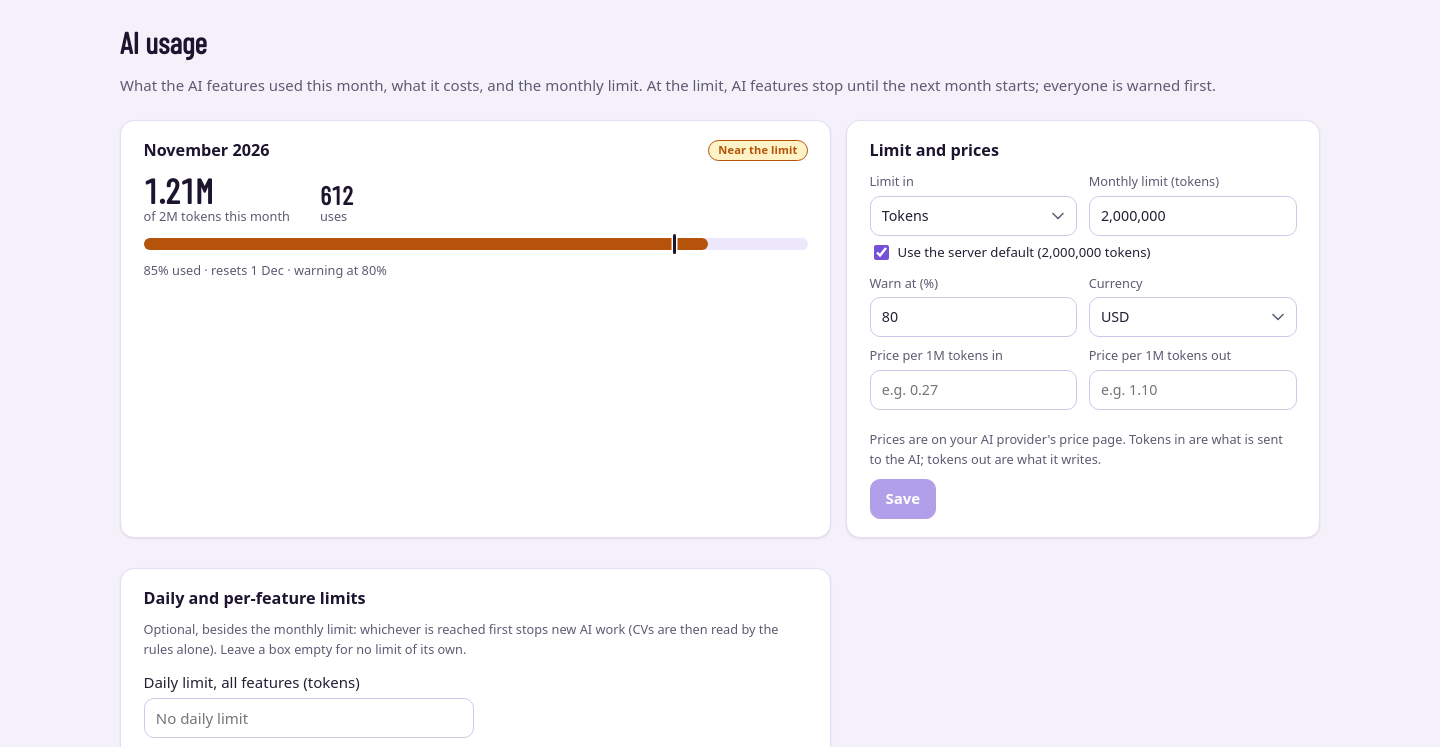
Test: Settings › AI usage › shows the API's problem with the money limit after going back to tokens
The width and height of the screenshot is (1440, 747).
Select "Money" in the dropdown labelled "Limit in" at {"x": 973, "y": 216}, box left=870, top=196, right=1077, bottom=236
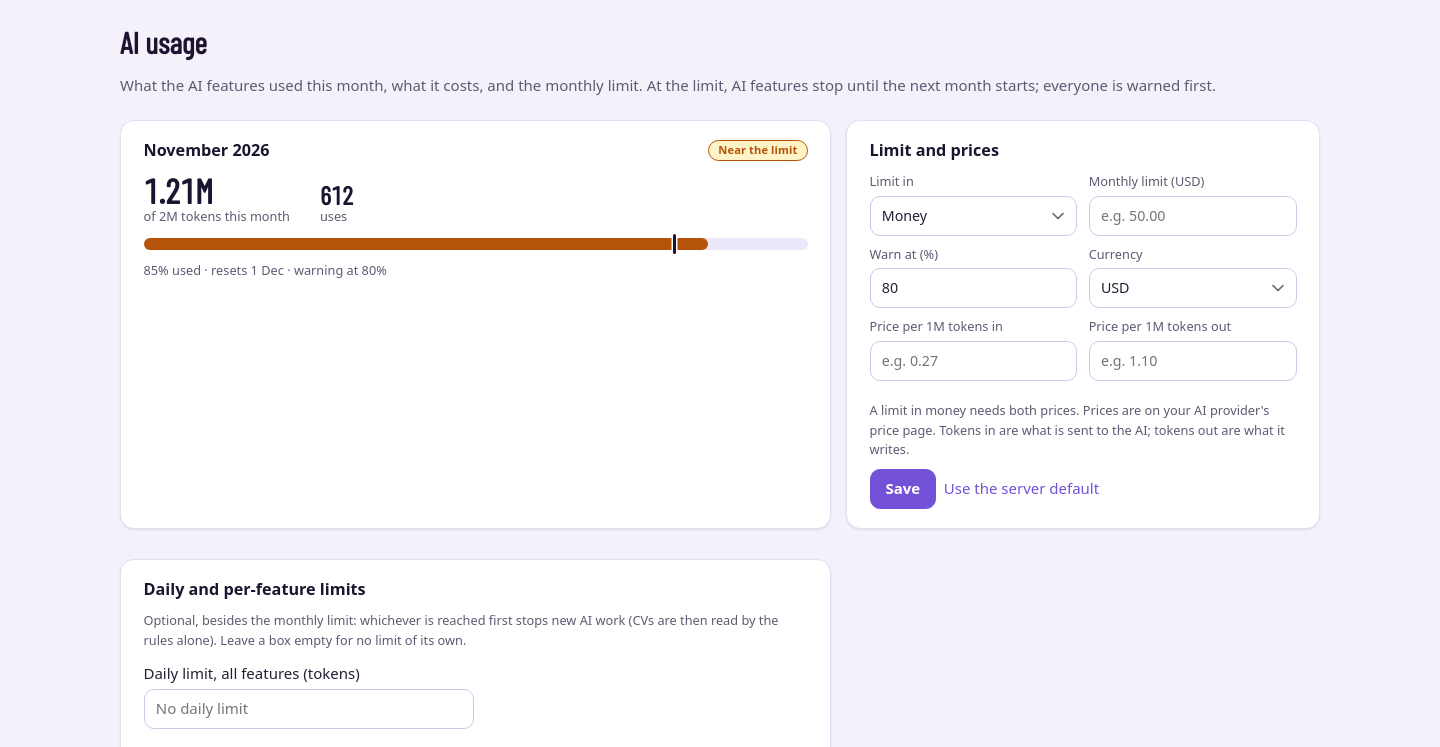
Type "50.55" into the field labelled "Monthly limit (USD)" at {"x": 1193, "y": 216}, box left=1089, top=196, right=1296, bottom=236
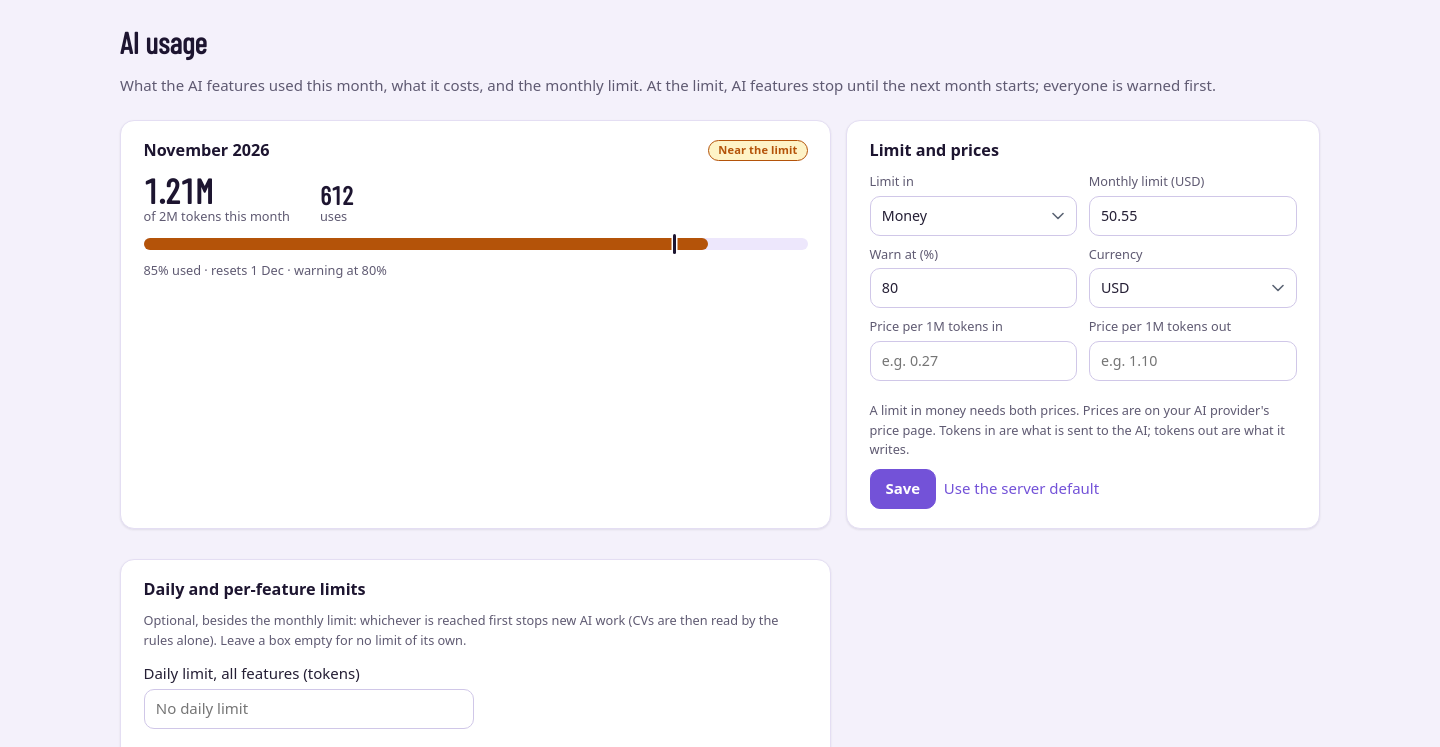
Select "Tokens" in the dropdown labelled "Limit in" at {"x": 973, "y": 216}, box left=870, top=196, right=1077, bottom=236
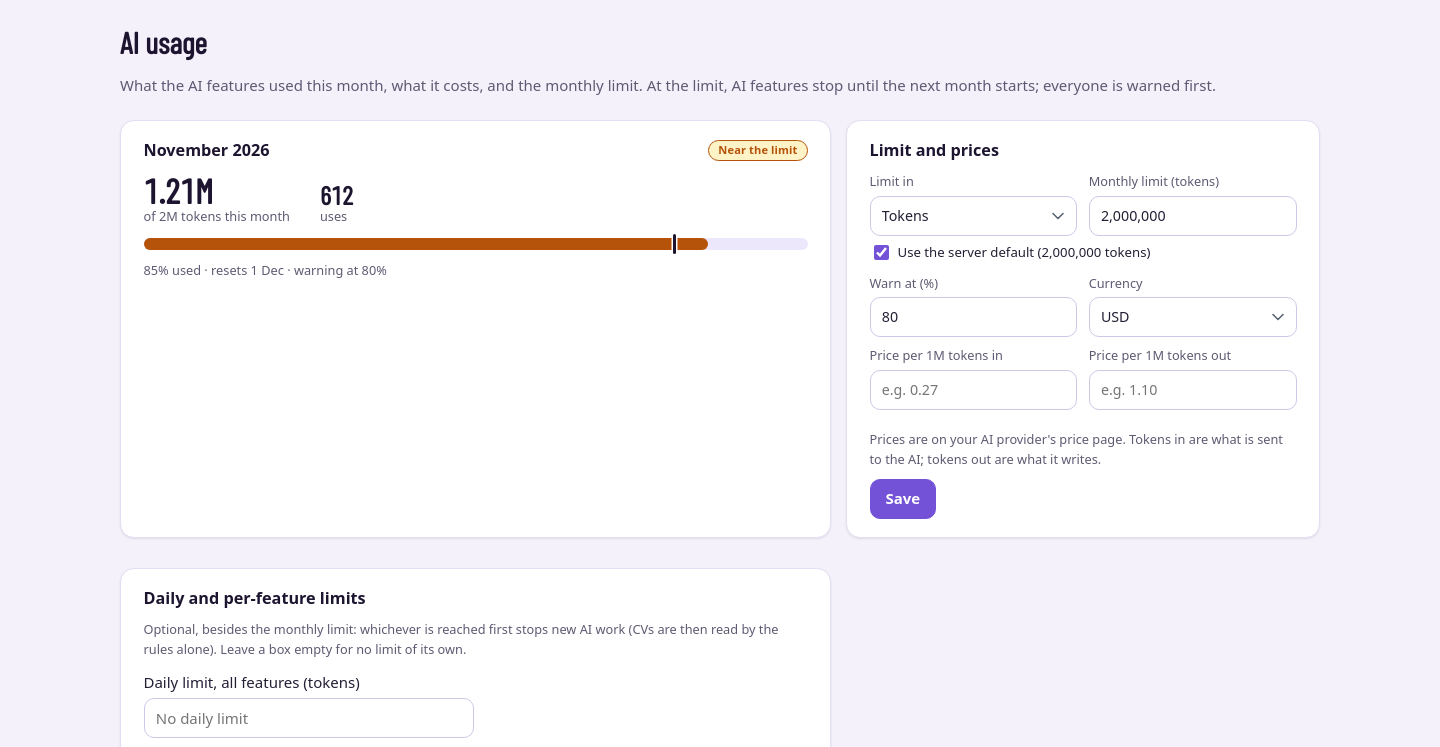
Click the button "Save" at {"x": 903, "y": 499}, box left=870, top=479, right=936, bottom=519
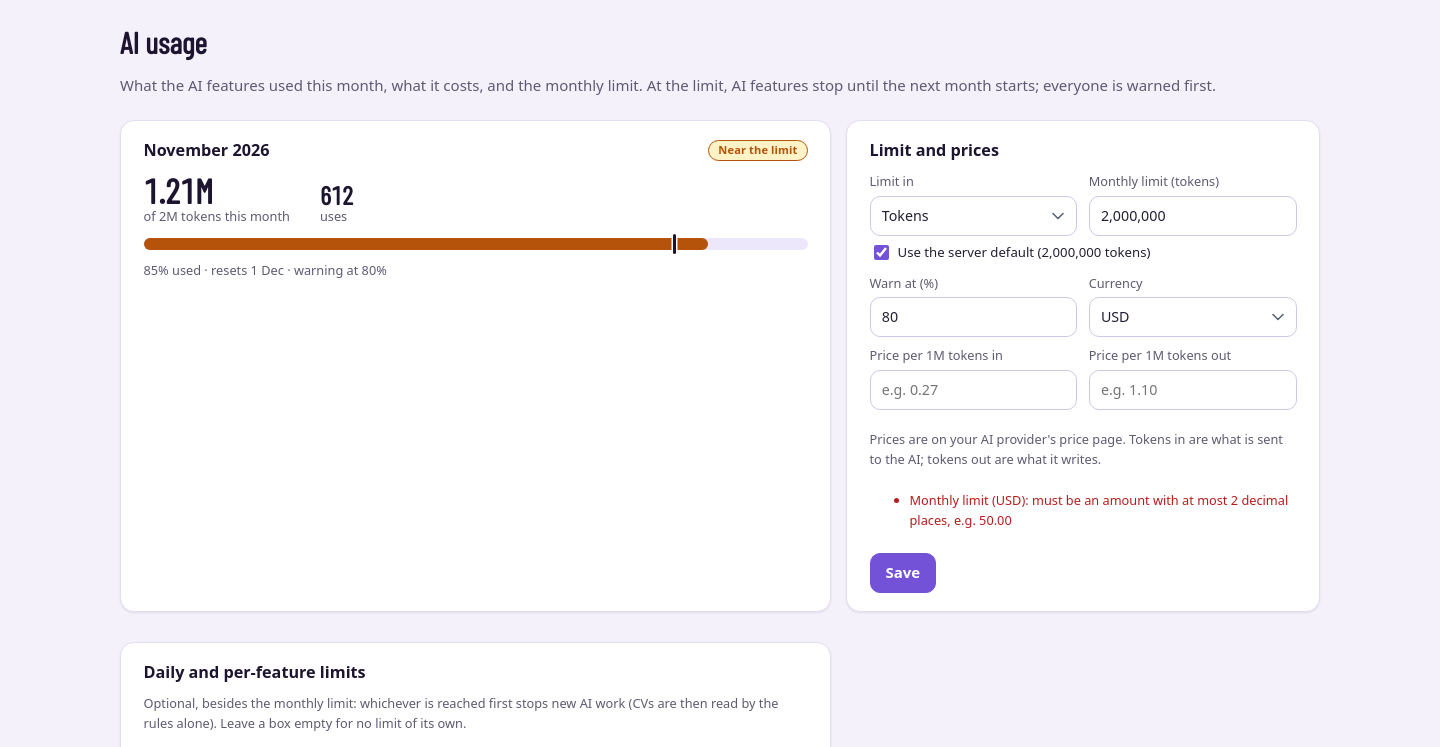
Result: the message reads "Monthly limit (USD): must be an amount with at most 2 decimal places, e.g. 50.00" at left=870, top=491, right=1296, bottom=531
